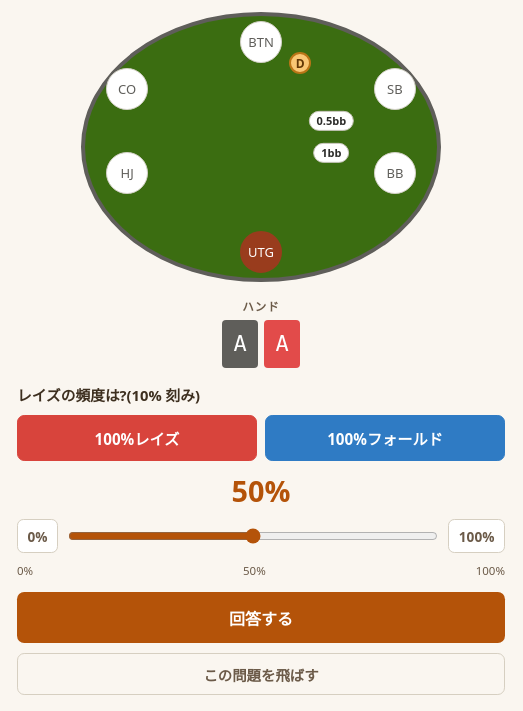
it: TrainingPlayPositional 即時フィードバック (UI) › 「次のハンドへ」で次問に進む (フィードバックが消え回答UIが戻る)
(page scrolled)
Click the button "回答する" at (261, 618), box [17, 592, 505, 643]
(page scrolled)
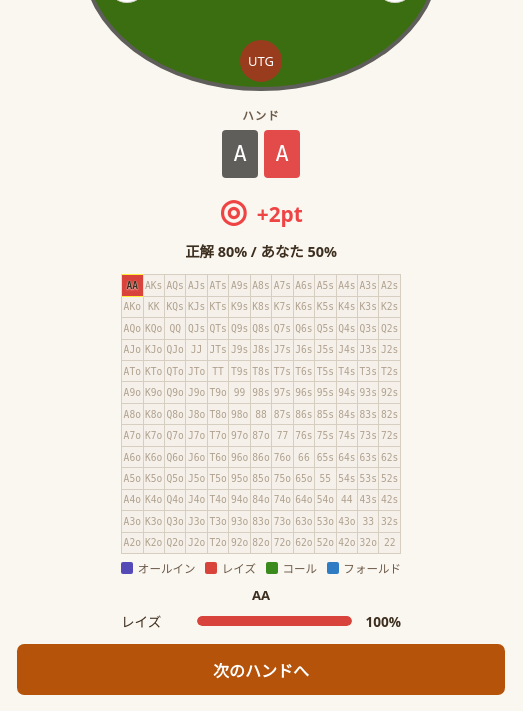
Click the button "次のハンドへ" at (261, 670), box [17, 644, 505, 695]
(page scrolled)
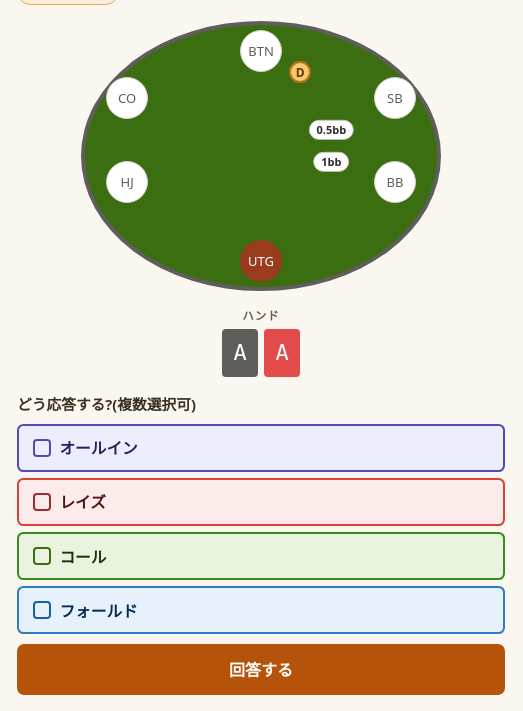
Expected: the button "回答する" is shown, [17, 644, 505, 695]
Expected: the button "次のハンドへ" is gone
